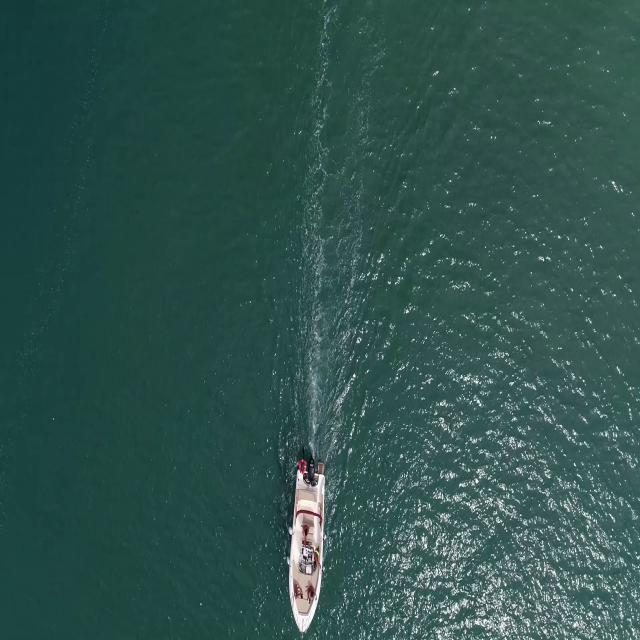boat: (287, 472, 327, 634)
life_buoy: (298, 458, 306, 472)
person: (291, 581, 304, 604), (302, 522, 312, 546), (312, 546, 322, 569), (307, 585, 316, 603)
